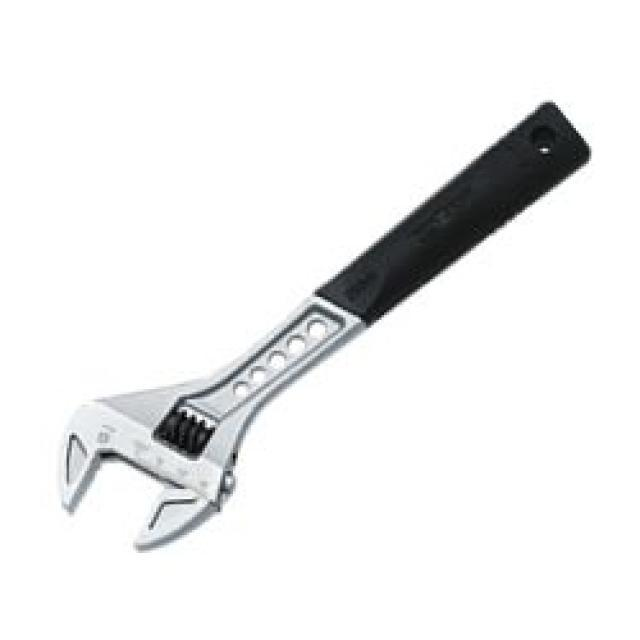wrench: (46, 90, 600, 558)
